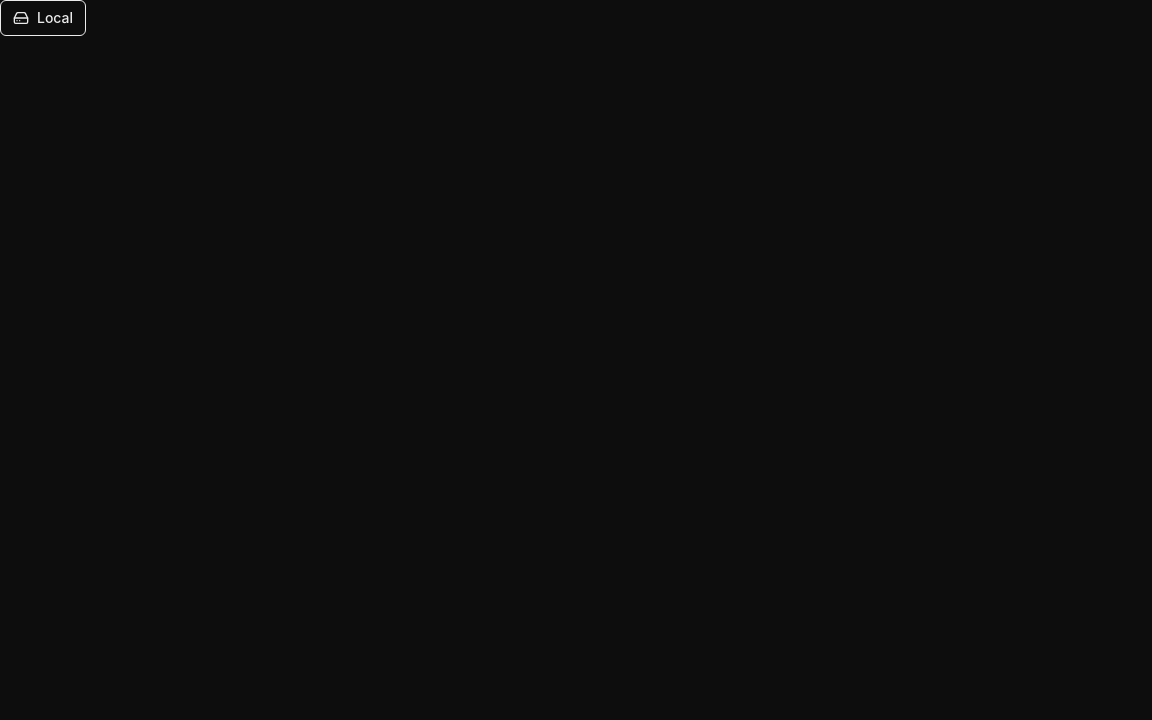
it: TaskSyncDiagnosticsDialog › shows the latest in-app reminder condition only in Settings diagnostics
Later steps or results of the test are not shown.
Click the button with aria-label "Task Sync Status: Local. Open Synchronization Details".
click(43, 18)  # box [0,0,86,36]
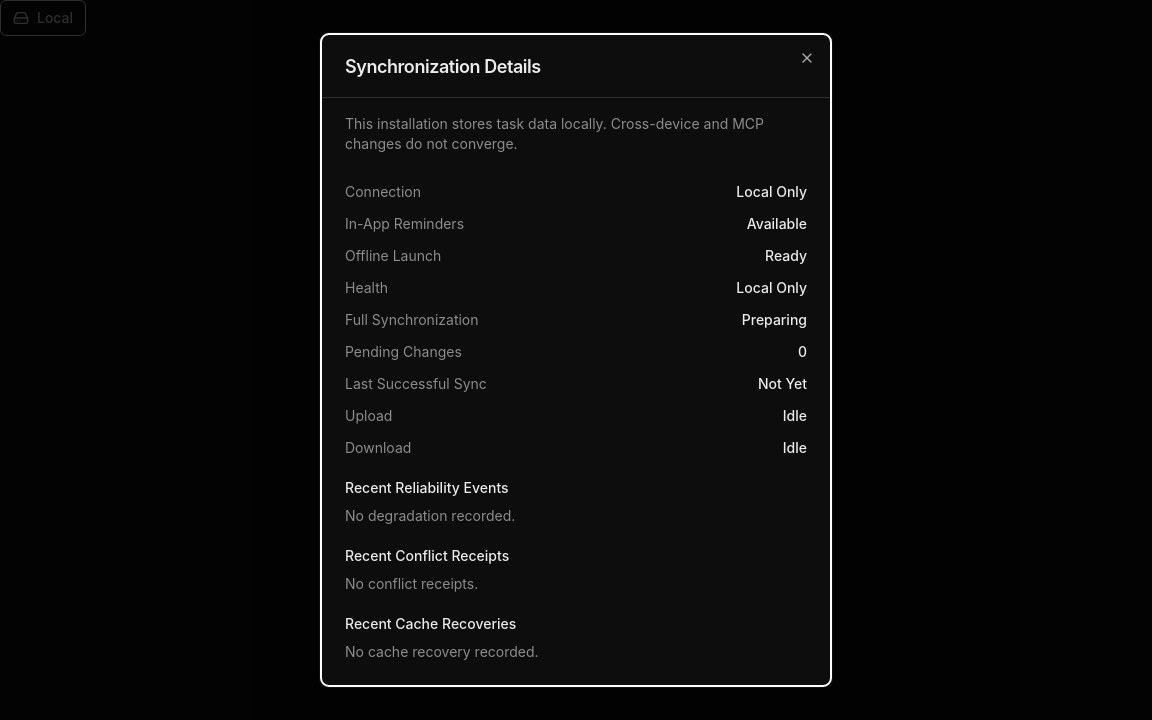
expect the text "Available" is shown: met, box [736,214,807,234]
